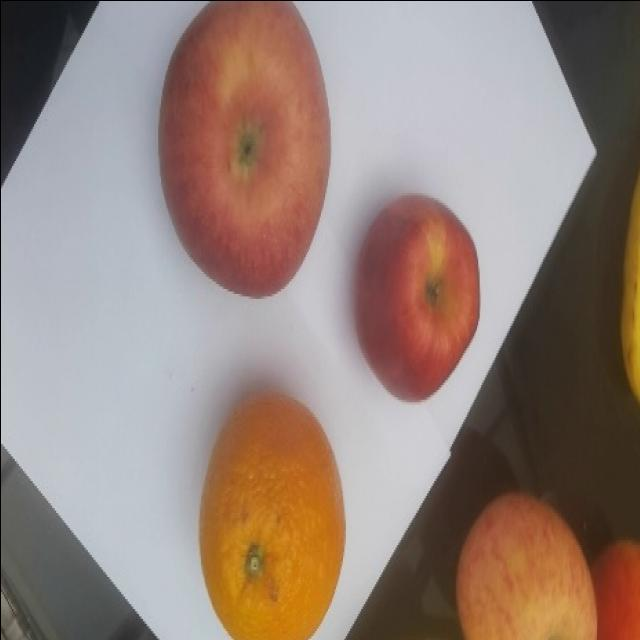Apple: (155, 0, 335, 304), (353, 190, 482, 407), (455, 487, 598, 640), (594, 535, 640, 640)
Banana: (617, 175, 640, 407)
Orange: (194, 388, 348, 640)
